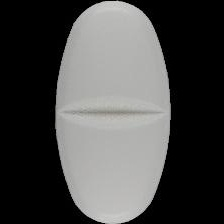52959-772: (0, 0, 224, 224)
